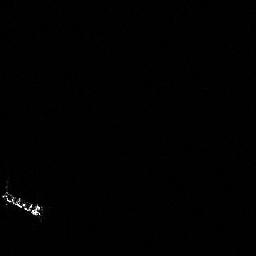ship: (1, 186, 46, 219)
